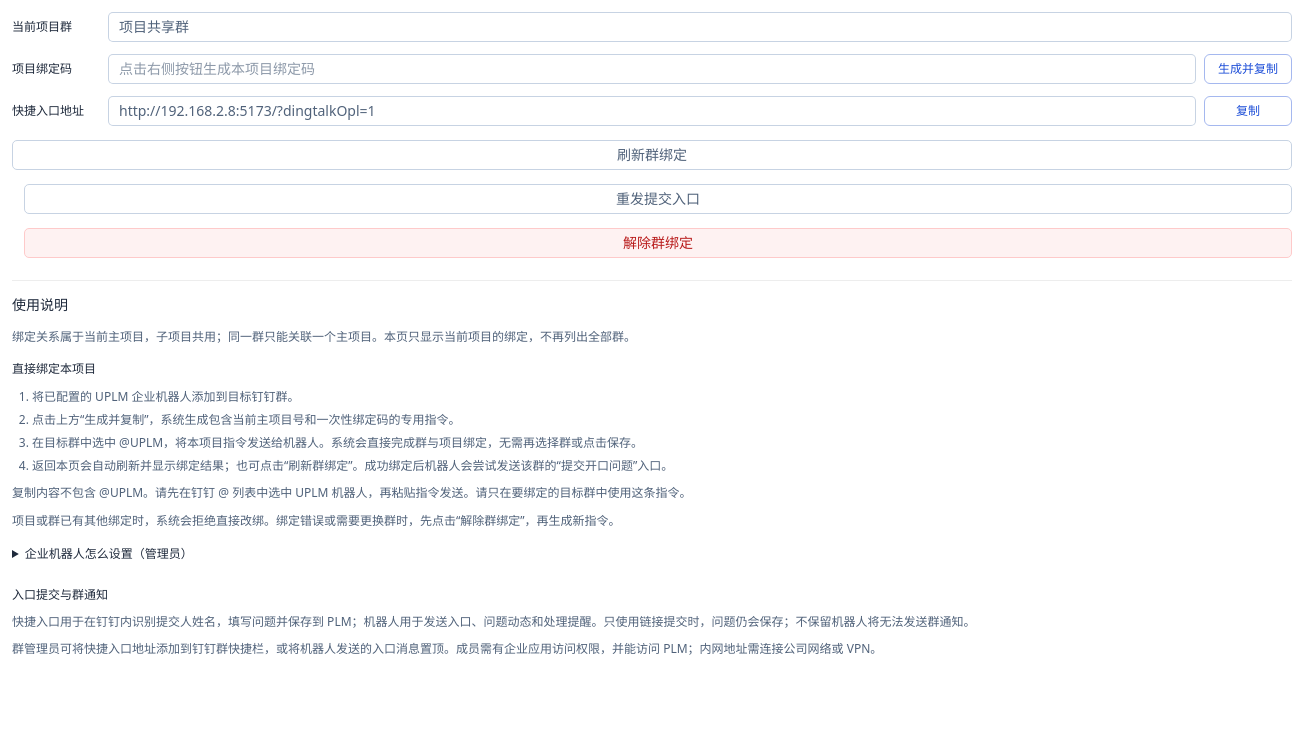
it: resends entry with the same enterprise robot
Click the button "重发提交入口" at (658, 199), box x1=24 y1=184 x2=1292 y2=214
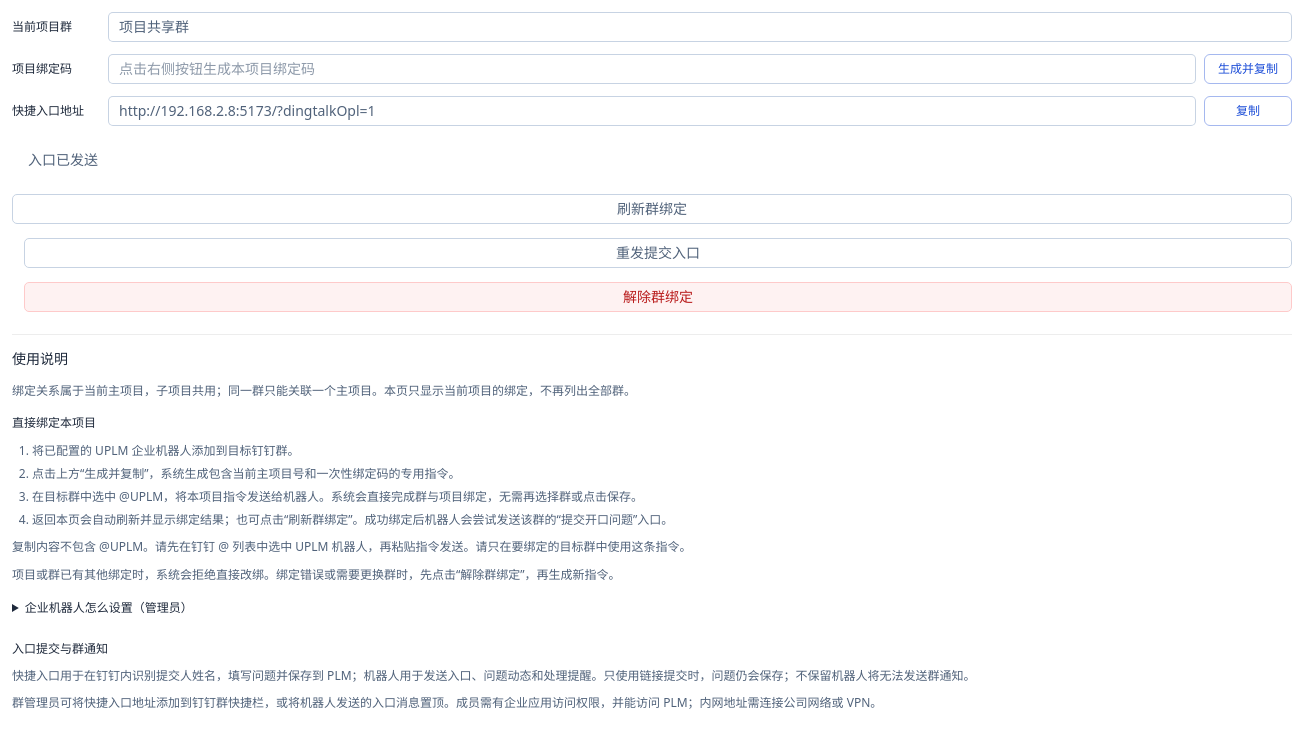
Check: the text "入口已发送" is shown, box x1=28 y1=148 x2=98 y2=172
